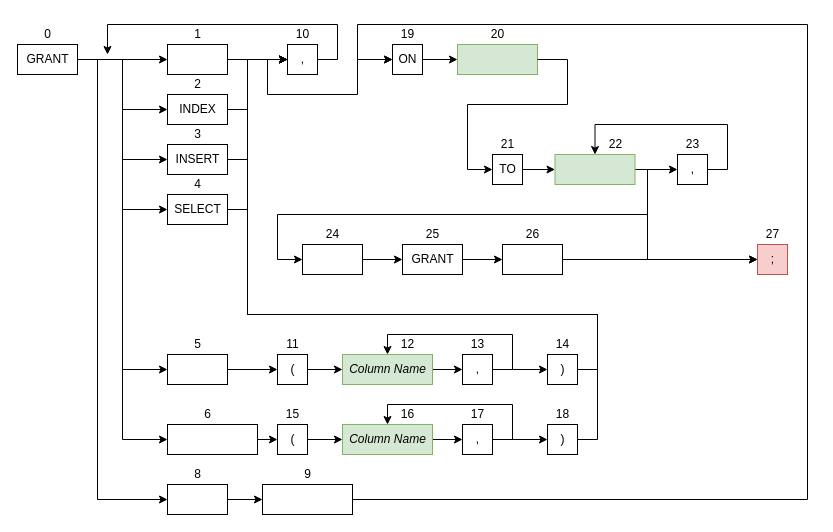
The diagram is 833 pixels wide and 532 high, and some of its shapes have lost their labels. Here are the shapes that lost their labels. From the top down, the centre of each, then its label:
[197,59]: DELETE
[497,59]: Table Name
[594,169]: Username
[332,259]: WITH
[532,259]: OPTION
[197,369]: UPDATE
[212,439]: REFERENCES
[197,499]: ALL
[307,499]: PRIVILEGES
